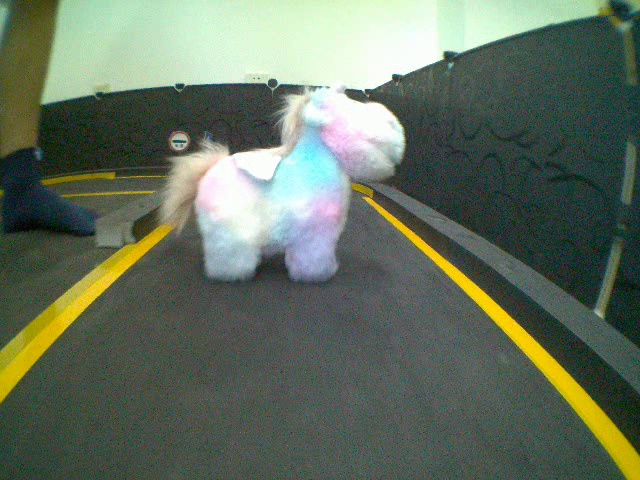unicorn: (158, 83, 409, 289)
